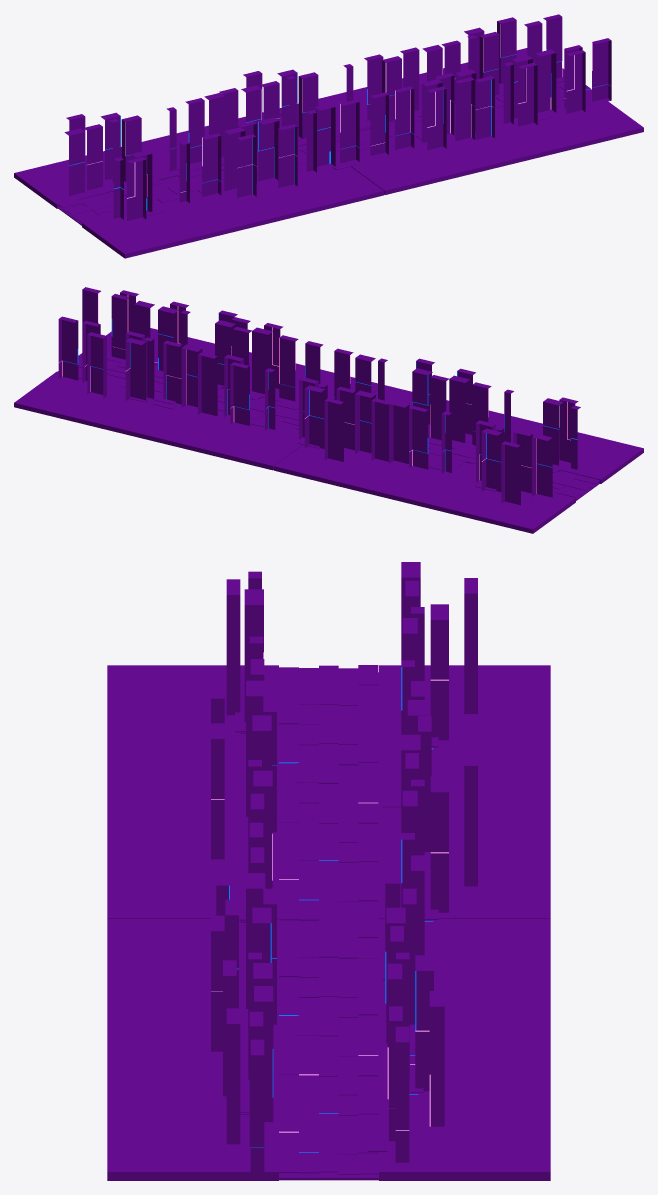
3 renders of one model, top to bottom at view 1: azimuth 30°, elevation 25°; view 2: azimuth 150°, elevation 25°; view 3: azimuth 270°, elevation 25°, orthographic. The views are drawn at different scales.
Visible parts, largest first — view 1: Cube.120_Cube.005, Cube.003_Cube.009, Cube.121_Cube.006, Cube.093_Cube.239, Cube.133_Cube.021, Cube.078_Cube.001, Cube.237_Cube.247, Cube.129_Cube.014, Cube.077_Cube.001, Cube.077_Cube.223, Cube.132_Cube.020, Cube.225_Cube.146 (+40 smaller); view 2: Cube.093_Cube.239, Cube.121_Cube.006, Cube.120_Cube.005, Cube.003_Cube.009, Cube.086_Cube.232, Cube.236_Cube.163, Cube.230_Cube.159, Cube.138_Cube.026, Cube.084_Cube.230, Cube.148_Cube.032, Cube.091_Cube.237, Cube.136_Cube.024 (+39 smaller); view 3: Cube.093_Cube.239, Cube.003_Cube.009, Cube.120_Cube.005, Cube.121_Cube.006, Cube.138_Cube.026, Cube.230_Cube.159, Cube.087_Cube.001, Cube.086_Cube.232, Cube.075_Cube.221, Cube.084_Cube.230, Cube.077_Cube.001, Cube.225_Cube.146 (+21 smaller).
Boxes of the visible parts, x1,y1,x2,y2 form: Cube.120_Cube.005: [82, 160, 383, 258]; Cube.003_Cube.009: [345, 98, 643, 194]; Cube.121_Cube.006: [14, 112, 306, 208]; Cube.093_Cube.239: [279, 48, 564, 136]; Cube.133_Cube.021: [258, 117, 279, 184]; Cube.078_Cube.001: [535, 49, 556, 116]; Cube.237_Cube.247: [455, 77, 474, 143]; Cube.129_Cube.014: [427, 86, 446, 152]; Cube.077_Cube.001: [566, 50, 585, 116]; Cube.077_Cube.223: [518, 62, 537, 128]; Cube.132_Cube.020: [278, 124, 297, 190]; Cube.225_Cube.146: [127, 157, 146, 223]; Cube.093_Cube.239: [14, 371, 304, 470]; Cube.121_Cube.006: [274, 445, 575, 533]; Cube.120_Cube.005: [373, 385, 643, 483]; Cube.003_Cube.009: [106, 328, 377, 408]; Cube.086_Cube.232: [125, 338, 146, 405]; Cube.236_Cube.163: [532, 433, 552, 500]; Cube.230_Cube.159: [481, 428, 502, 495]; Cube.138_Cube.026: [304, 385, 325, 452]; Cube.084_Cube.230: [58, 316, 78, 382]; Cube.148_Cube.032: [389, 400, 409, 467]; Cube.091_Cube.237: [198, 352, 217, 418]; Cube.136_Cube.024: [230, 362, 249, 428]; Cube.093_Cube.239: [379, 919, 550, 1180]; Cube.003_Cube.009: [107, 919, 278, 1180]; Cube.120_Cube.005: [107, 665, 278, 918]; Cube.121_Cube.006: [379, 665, 550, 918]; Cube.138_Cube.026: [430, 776, 448, 912]; Cube.230_Cube.159: [430, 604, 448, 740]; Cube.087_Cube.001: [429, 991, 444, 1126]; Cube.086_Cube.232: [415, 955, 433, 1091]; Cube.075_Cube.221: [250, 1039, 264, 1175]; Cube.084_Cube.230: [395, 1026, 409, 1162]; Cube.077_Cube.001: [226, 1008, 240, 1144]; Cube.225_Cube.146: [226, 579, 240, 715].
Size of the model in its own units: 213 by 25.21 by 78.37.
3 materials, 1 textured.
